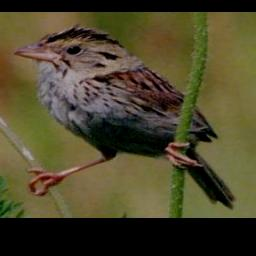Sparrow: (13, 25, 239, 211)
